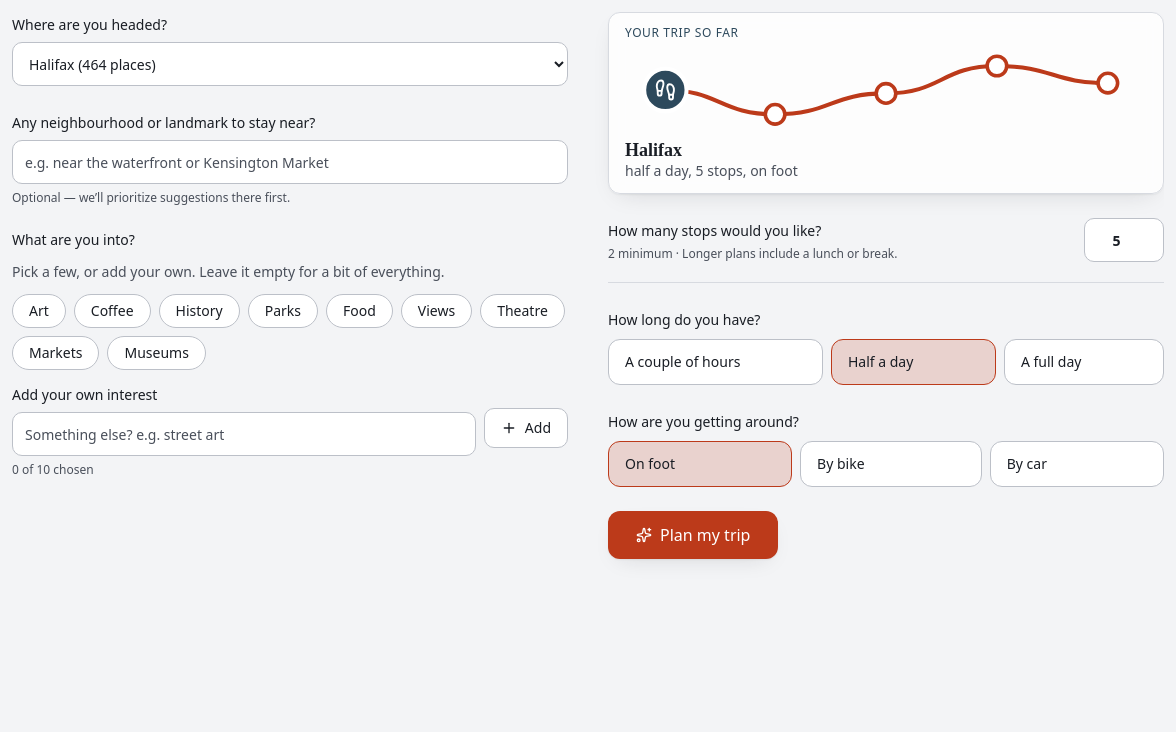
Test: PlanForm feedback › explains why a custom interest was rejected and keeps what was typed
Type "<script>" into the field labelled "Add your own interest" at (244, 434), box [12,412,476,456]
Then press Enter
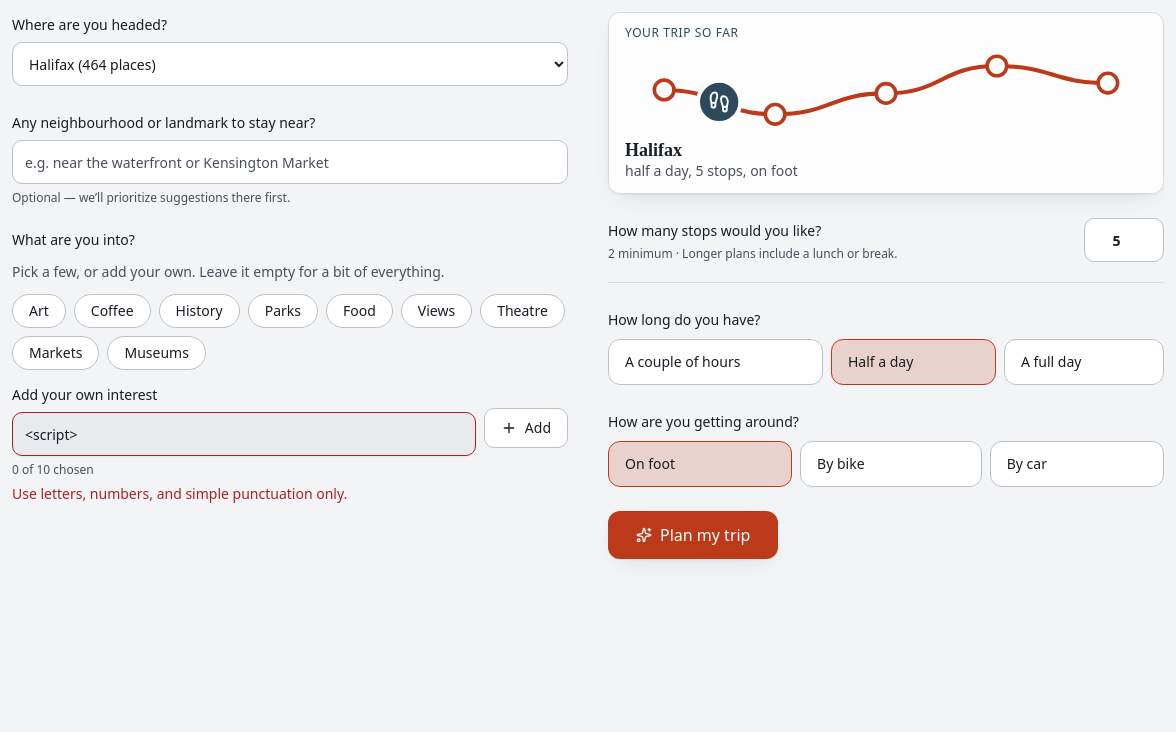
Result: the text "Use letters, numbers, and simple punctuation only." is shown at [12,484,347,503]
